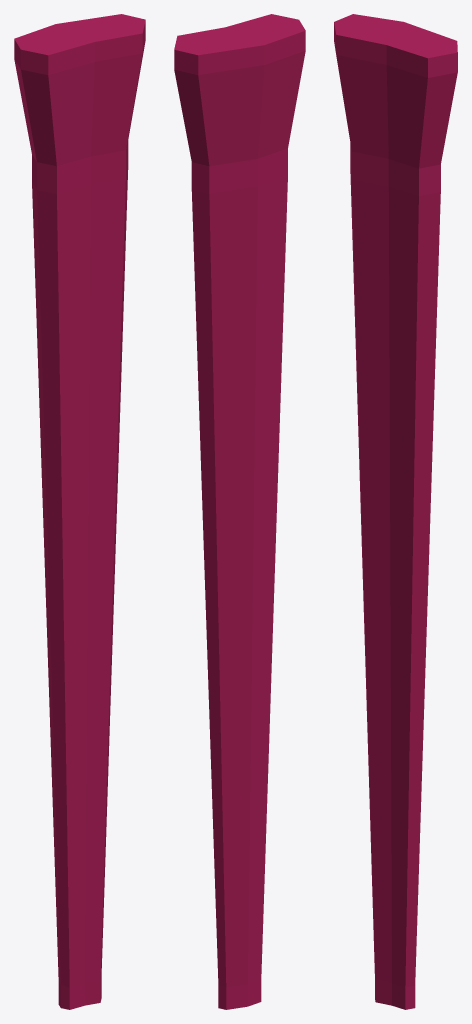
File: Dokdo.obj
3 renders of one model, left to right at view 1: azimuth 30°, elevation 25°; view 2: azimuth 210°, elevation 25°; view 3: azimuth 330°, elevation 25°, orthographic.
Parts seen in each view (by area): view 1: Dokdo; view 2: Dokdo; view 3: Dokdo.
Boxes of the visible parts, left/top/right/bottom form: Dokdo: left=14, top=14, right=145, bottom=1009; Dokdo: left=174, top=14, right=305, bottom=1009; Dokdo: left=334, top=14, right=457, bottom=1009.
Size of the model in its own units: 6.74 by 50.15 by 2.95.
